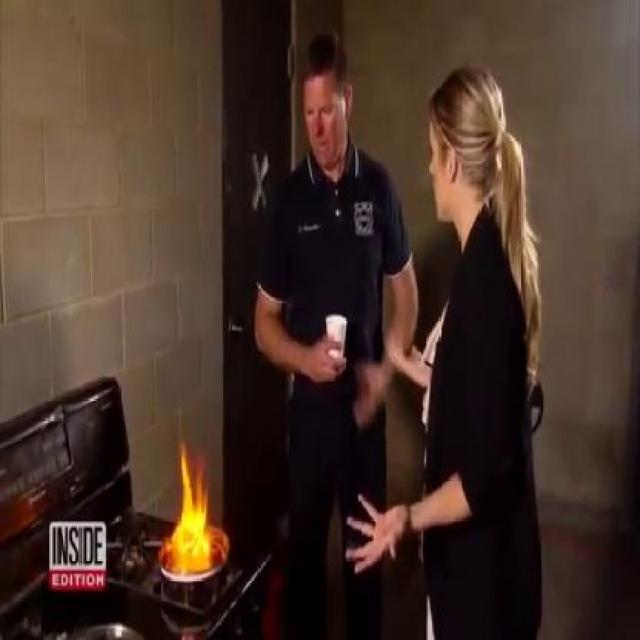fire: (166, 427, 226, 587)
